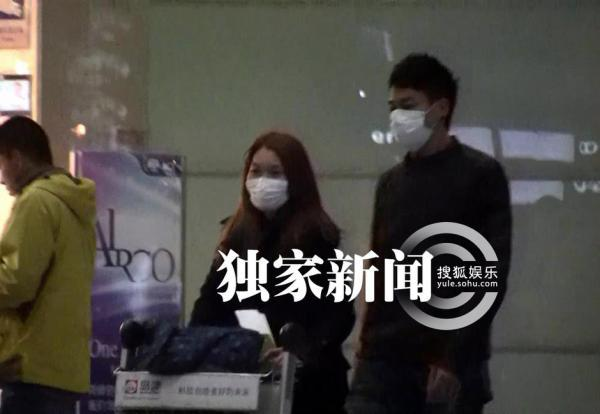OK: (390, 97, 444, 155), (245, 155, 299, 209)
